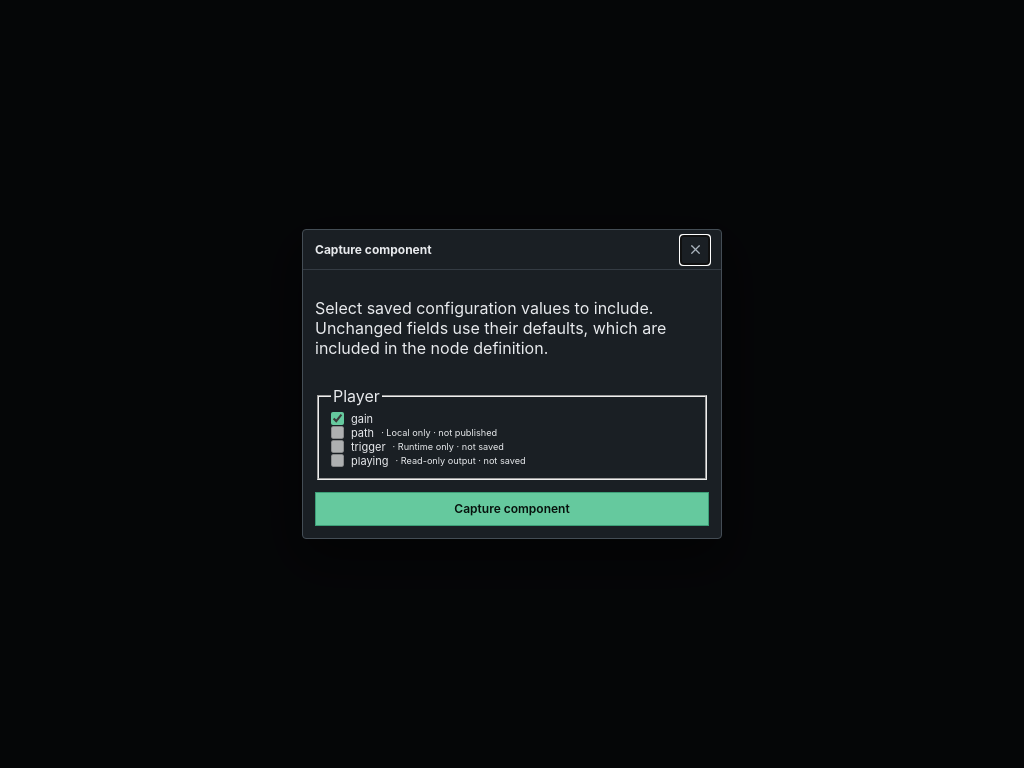
Scenario: failed sharing leaves the choices available and displays the error
Click the button "Capture component".
click(512, 509)  # box [315,492,709,526]
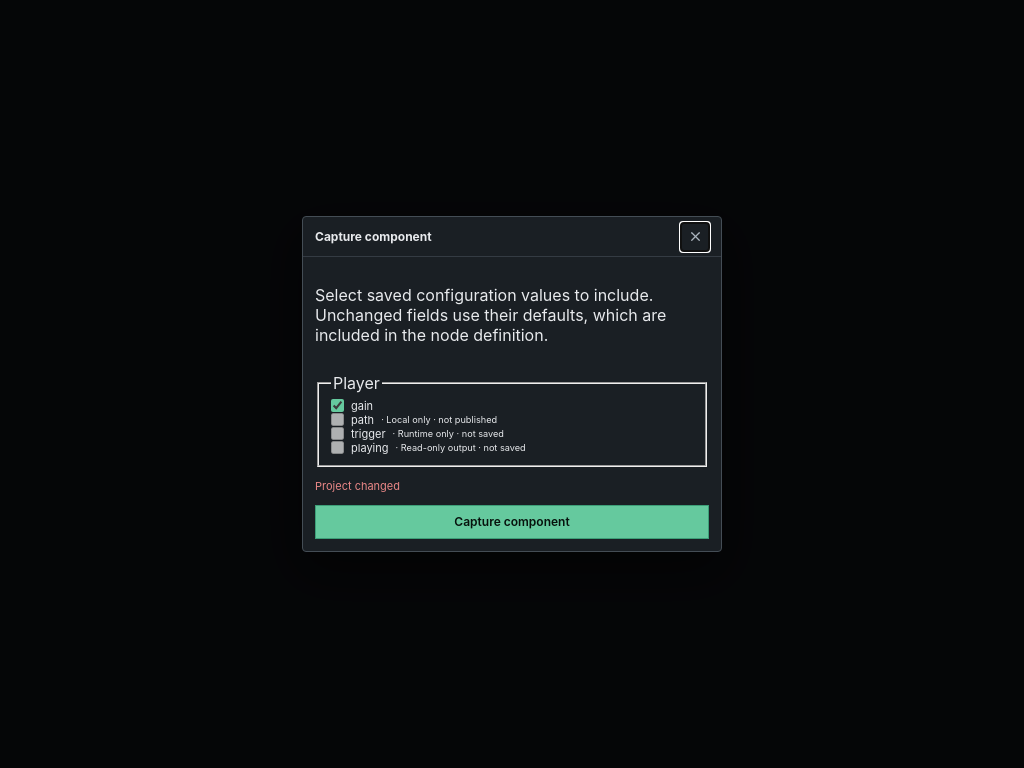
Expected: the message reads "Project changed", [315,479,400,493]
